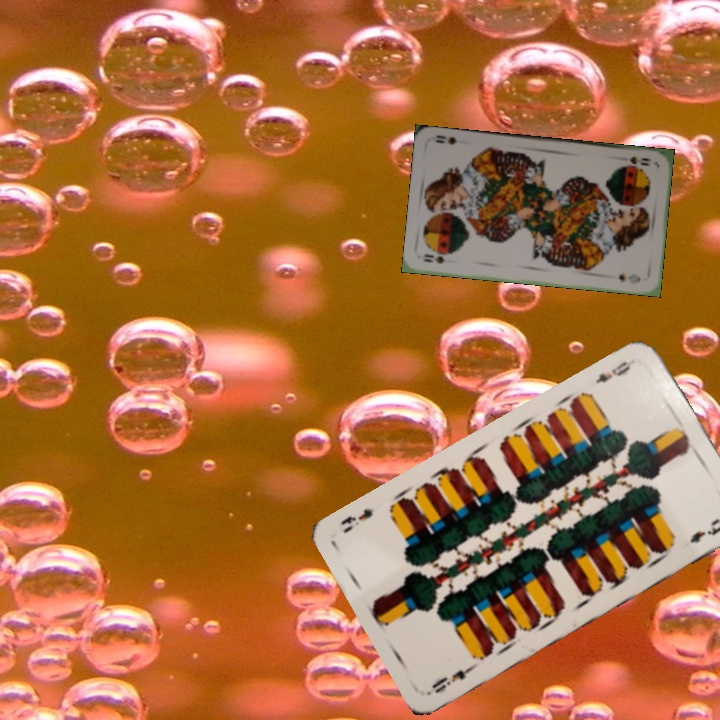E9: (425, 660, 479, 696), (591, 354, 638, 387)
SO: (621, 152, 653, 169), (420, 250, 448, 266)
